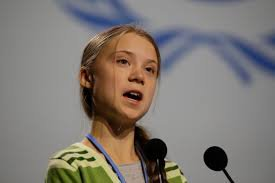noMask: (77, 24, 166, 123)
